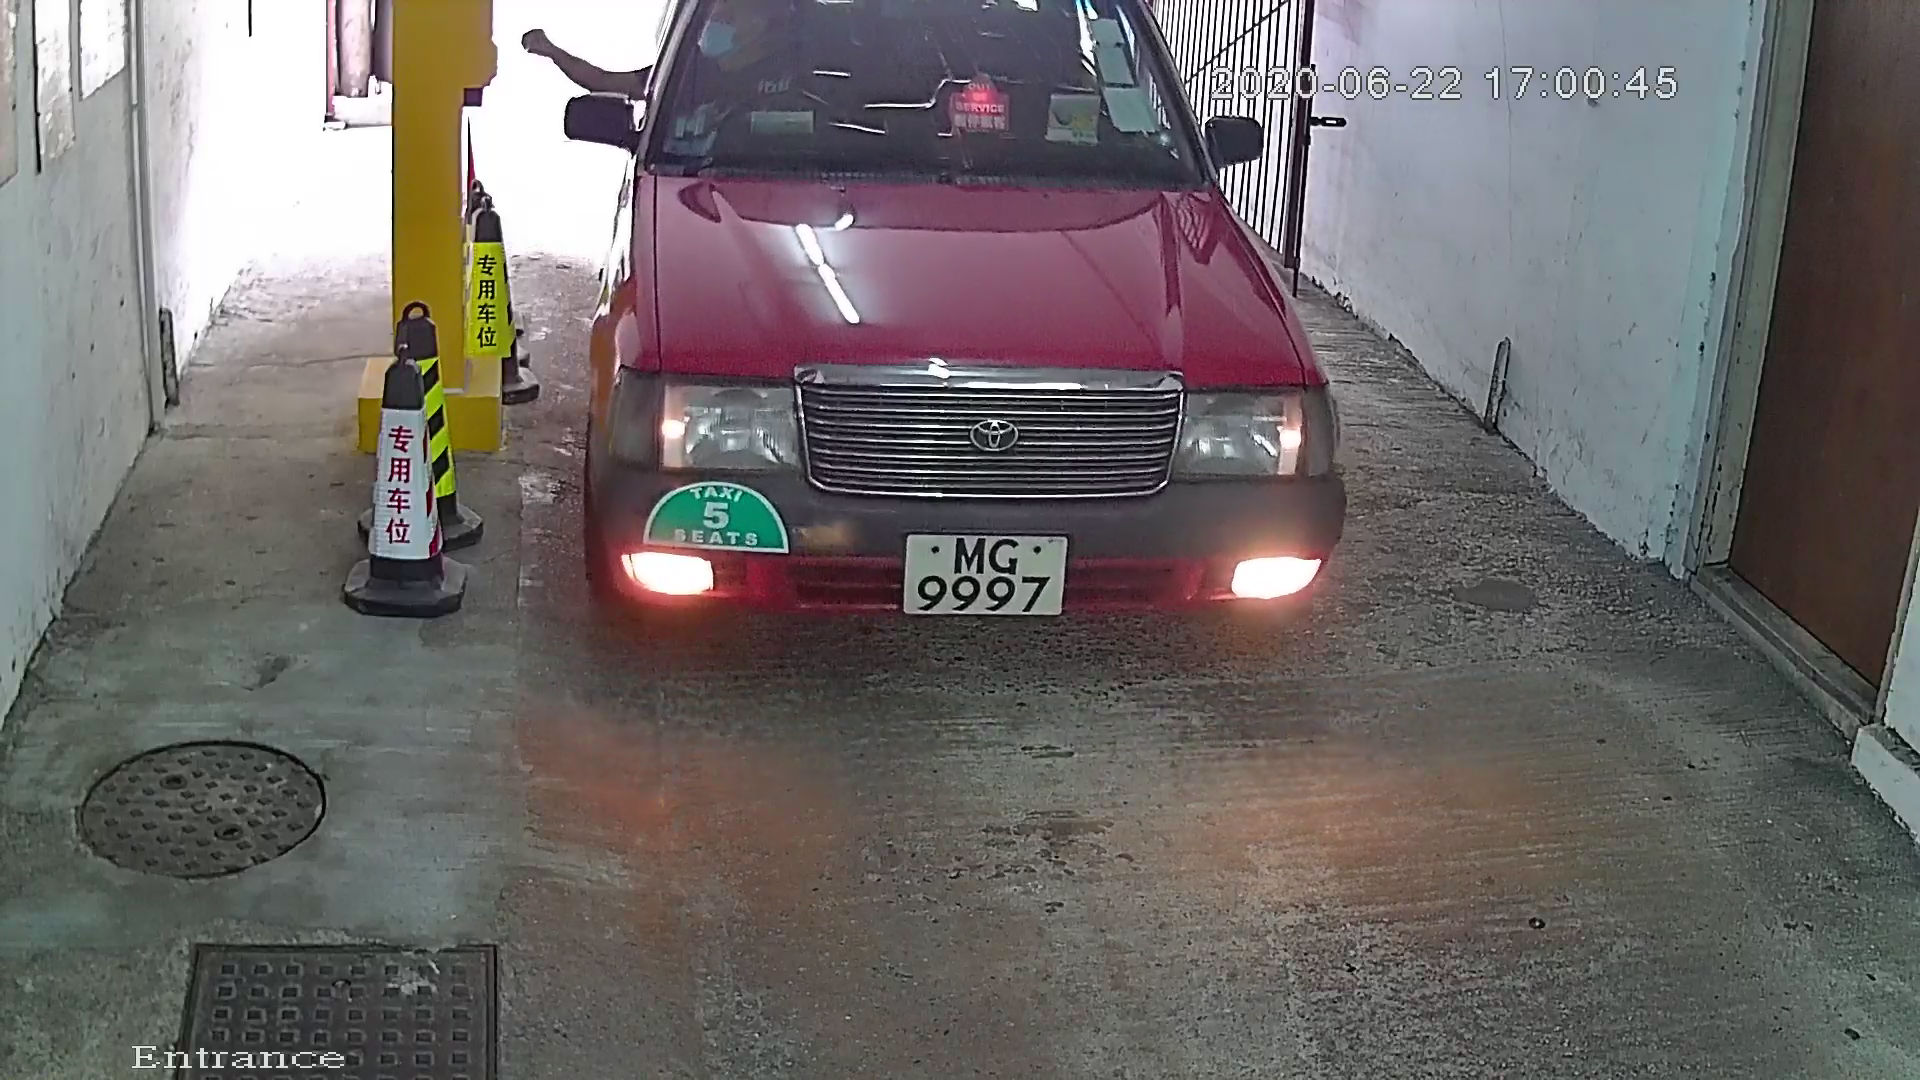taxi: (520, 3, 1414, 676)
taxi_mark: (634, 440, 807, 572)
